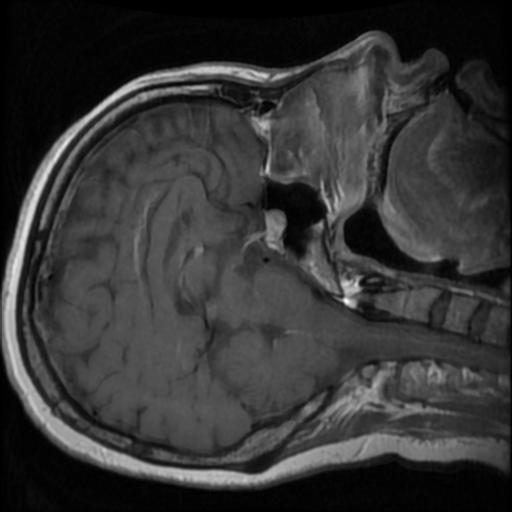pituitary tumour: (262, 209, 285, 251)
